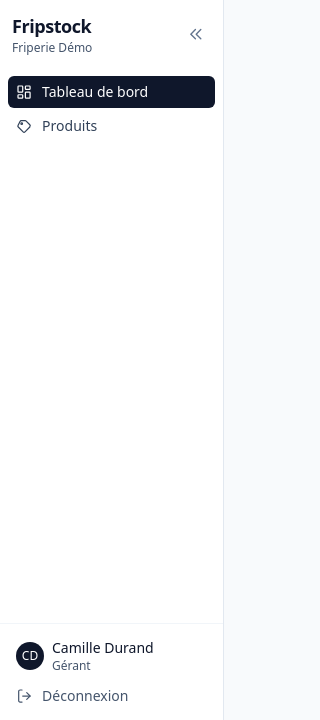
Sidebar › replie au clic et retient le choix dans un cookie
Click the button named "Replier le menu" at point(196, 34), box [181,19,211,49]
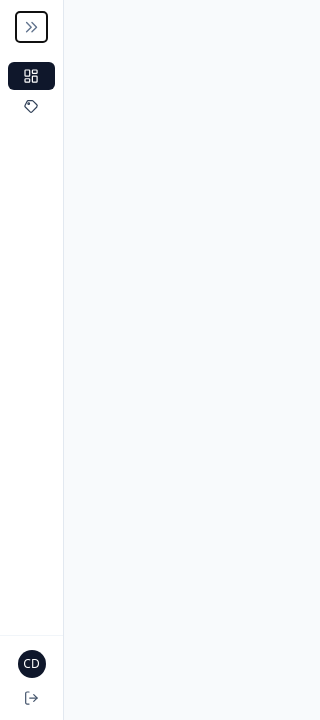
Result: the text "Produits" is gone
